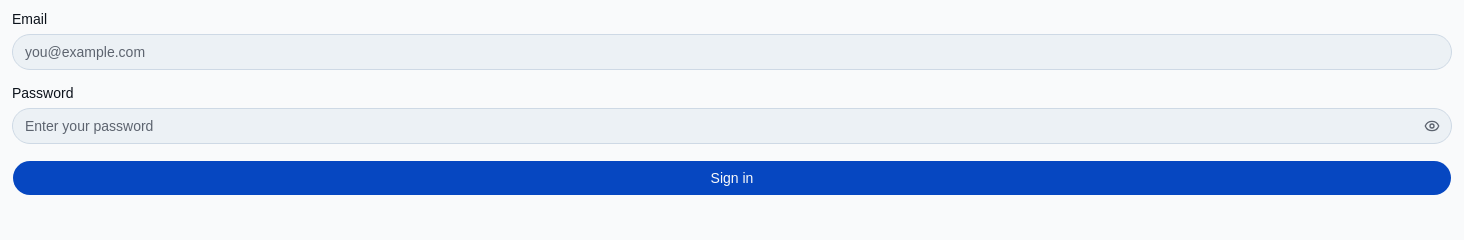
Test: LoginForm › shows validation error for invalid email
Type "not-an-email" into the field labelled "Email".
click(732, 52); type("not-an-email")  # box [12,34,1452,70]
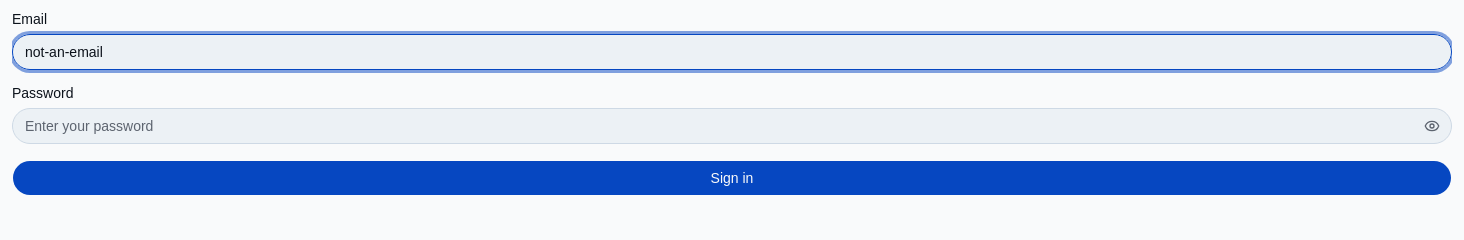
Type "Password1!" into the password field with placeholder "Enter your password".
click(732, 126); type("Password1!")  # box [12,108,1452,144]
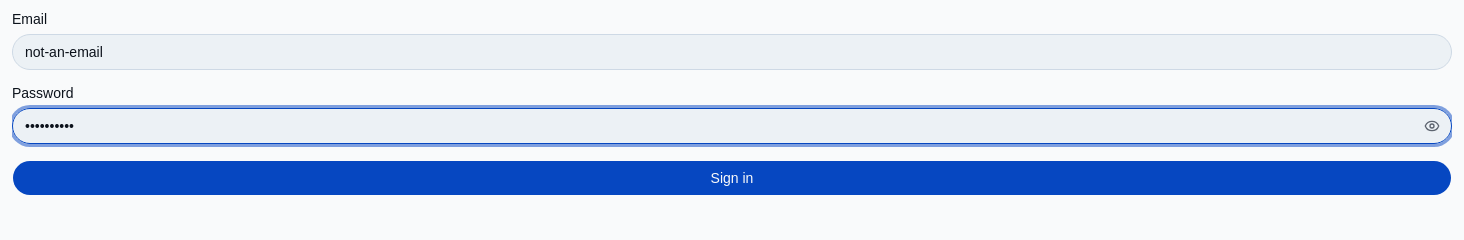
Click the button "Sign in".
click(732, 178)  # box [12,160,1452,196]
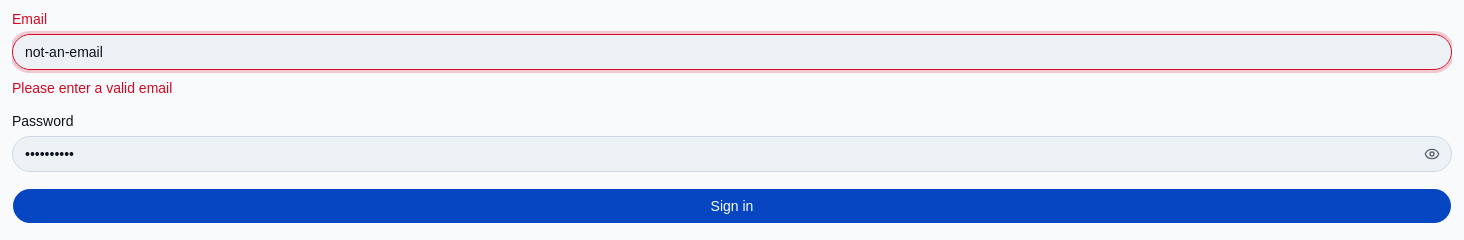
Now the text "Please enter a valid email" is shown, box [12,80,172,96]
